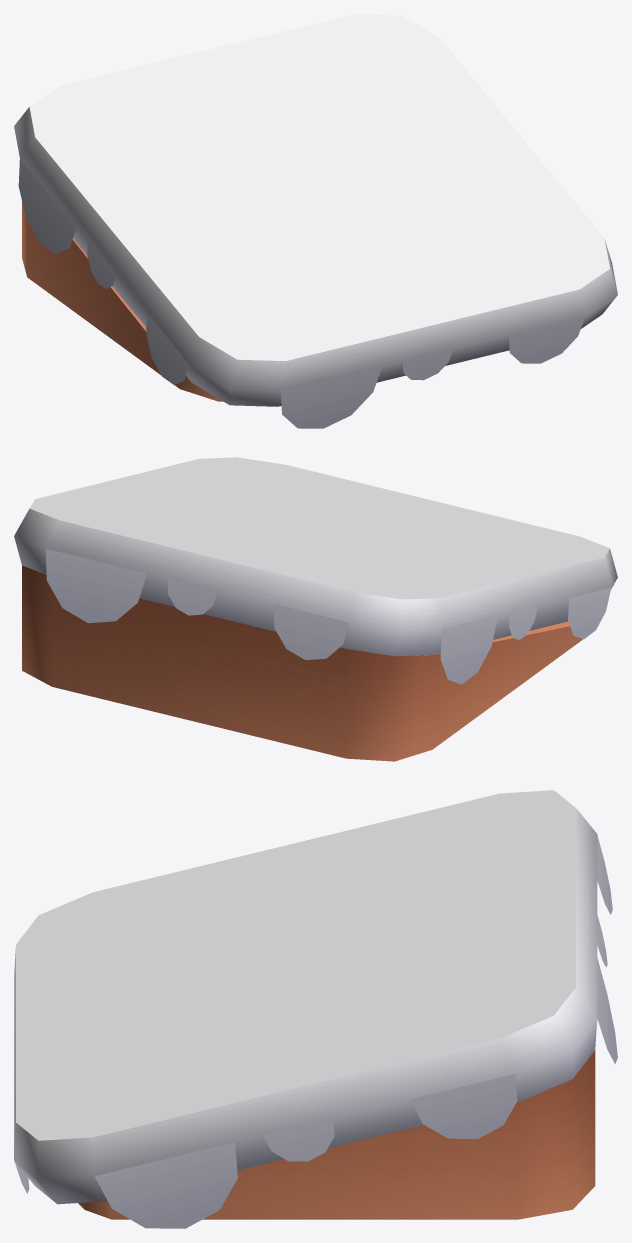
Rendered from block-snow-overhang-large-slope.glb.
3 renders of one model, top to bottom at view 1: azimuth 30°, elevation 25°; view 2: azimuth 150°, elevation 25°; view 3: azimuth 270°, elevation 25°, orthographic. The views are drawn at different scales.
Visible parts, largest first — view 1: block-snow-overhang-large-slope; view 2: block-snow-overhang-large-slope; view 3: block-snow-overhang-large-slope.
Part boxes in pixels (x1,y1,x2,y2): block-snow-overhang-large-slope: (14,14,617,428); block-snow-overhang-large-slope: (14,457,617,761); block-snow-overhang-large-slope: (14,790,617,1228).
Size of the model in its own units: 2.08 by 0.9144 by 2.08.
Materials: 1 (1 with a texture image).
